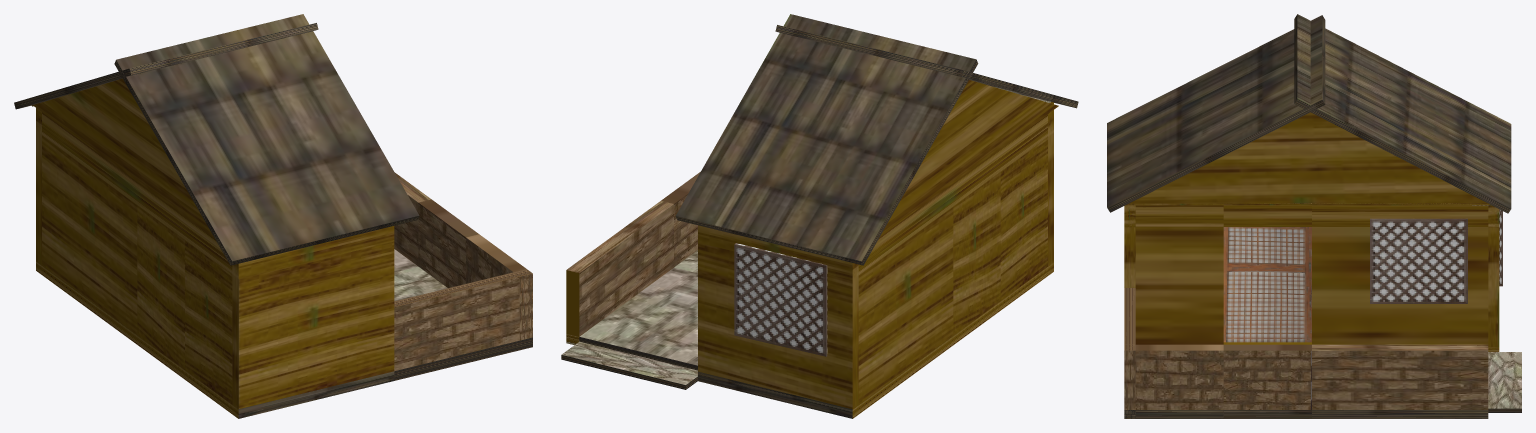
File: HOUSE1(model).fbx
3 views of the same model, side by side, from view 1: azimuth 30°, elevation 25°; view 2: azimuth 150°, elevation 25°; view 3: azimuth 270°, elevation 25° (orthographic). The views are drawn at different scales.
Parts seen in each view (by area): view 1: Cube, Cube.005; view 2: Cube, Cube.003, Cube.005; view 3: Cube, Cube.005, Cube.004, Cube.002.
Boxes of the visible parts, box(x1,y1,x2,y2) form: Cube: box(14, 14, 532, 418); Cube.005: box(31, 78, 214, 238); Cube: box(561, 14, 1078, 418); Cube.003: box(734, 243, 827, 356); Cube.005: box(880, 80, 1058, 236); Cube: box(1107, 14, 1521, 418); Cube.005: box(1130, 112, 1490, 204); Cube.004: box(1223, 227, 1311, 342); Cube.002: box(1370, 218, 1467, 303).
Size of the model in its own units: 2288 by 2016 by 2862.
